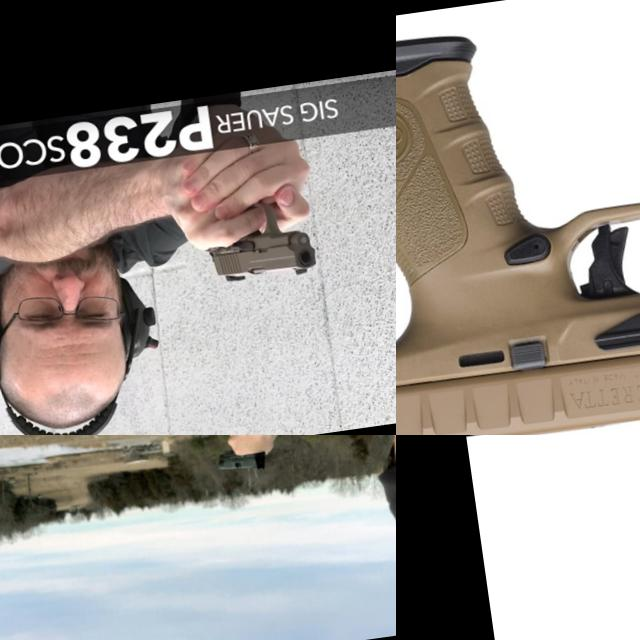handgun: (396, 0, 640, 435), (202, 202, 320, 286), (213, 444, 269, 478)
